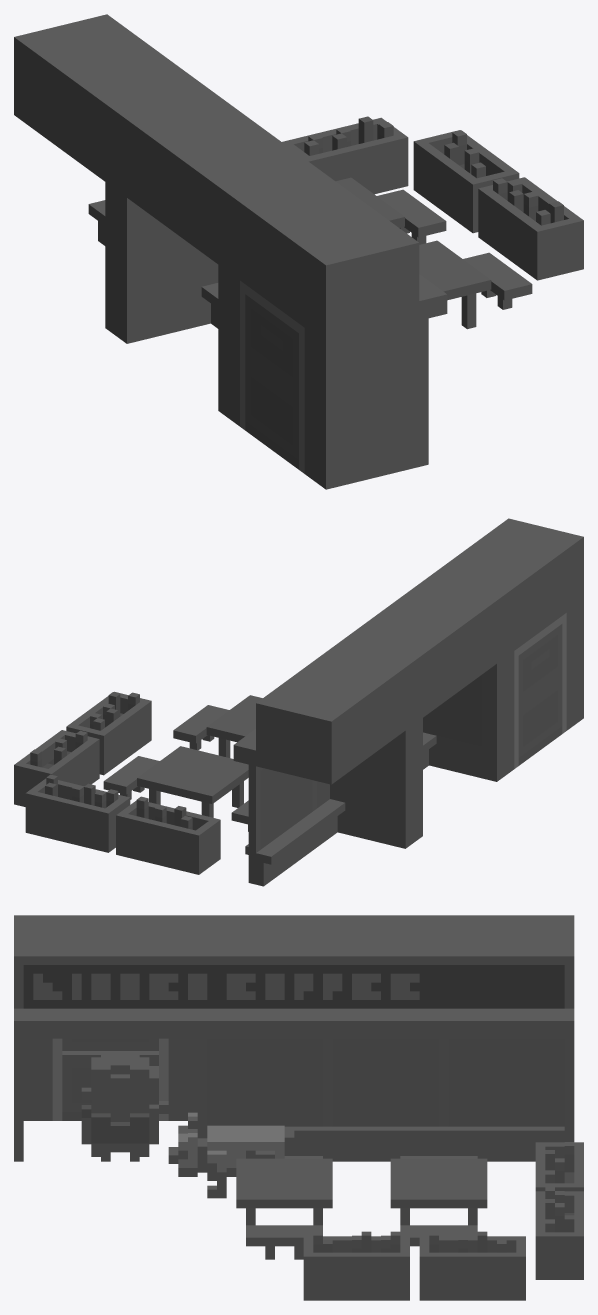
File: scene_coffee.obj
3 views of the same model, one above another, from view 1: azimuth 30°, elevation 25°; view 2: azimuth 150°, elevation 25°; view 3: azimuth 270°, elevation 25° (orthographic). The views are drawn at different scales.
Size of the model in its own units: 45 by 23 by 59.
